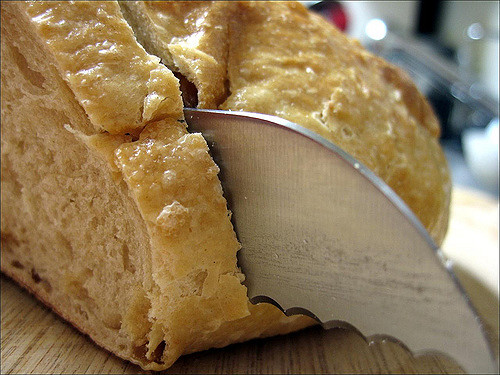slice of bread: (32, 7, 232, 356)
